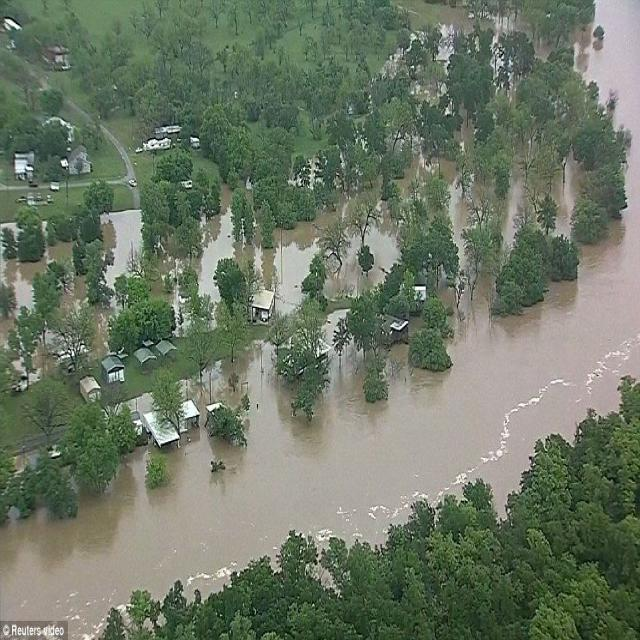flood: (0, 0, 640, 640), (0, 0, 640, 393)
house: (116, 391, 182, 448), (176, 384, 202, 433), (249, 288, 277, 325), (11, 148, 36, 180), (78, 375, 106, 403), (70, 146, 96, 175), (102, 356, 125, 384)
